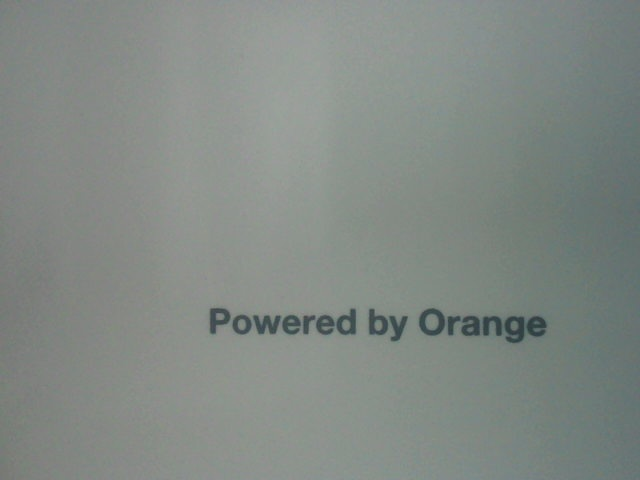AS_PowerByOrange: (200, 293, 560, 353)
